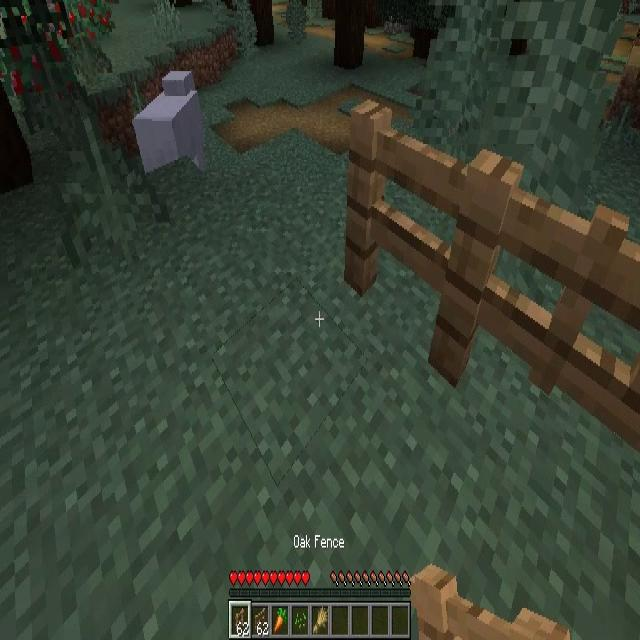sheep: (134, 70, 203, 176)
